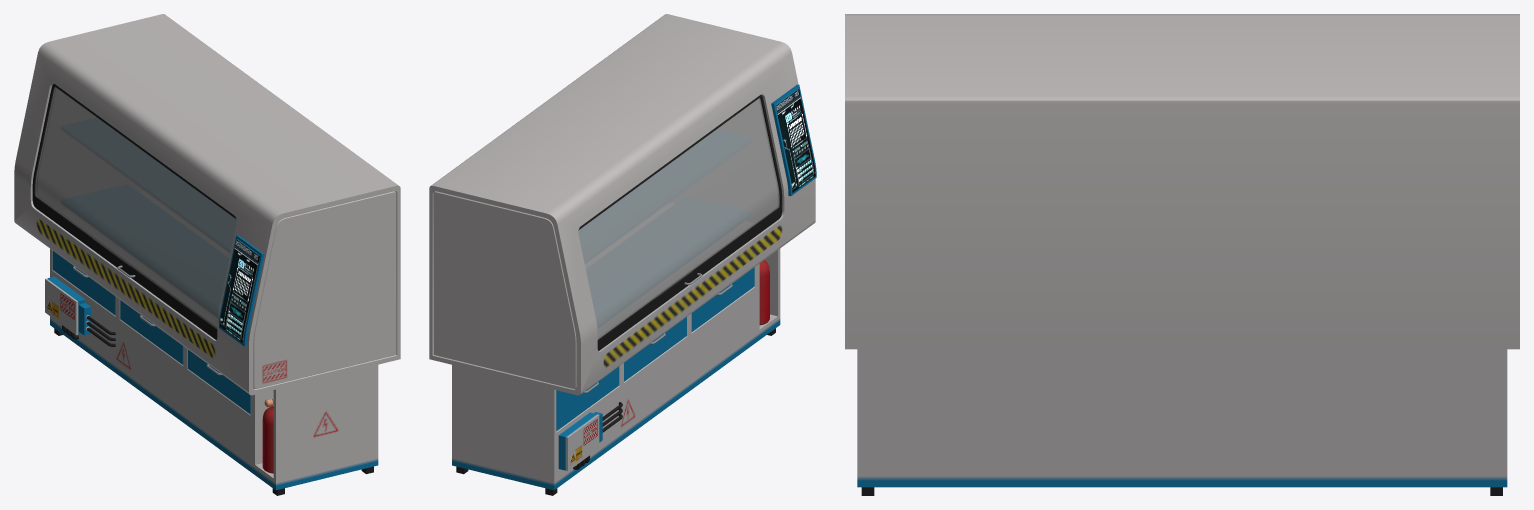
The model's file is PlantChamberGrp.fbx.
The picture shows the model from 3 angles, left to right: view 1: azimuth 30°, elevation 25°; view 2: azimuth 150°, elevation 25°; view 3: azimuth 270°, elevation 25°; orthographic projection. The views are drawn at different scales.
Parts seen in each view (by area): view 1: PlantChamber2, PlantChamberGlass; view 2: PlantChamber2, PlantChamberGlass; view 3: PlantChamber2.
Boxes of the visible parts, bbox=[...] form: PlantChamber2: bbox=[14, 14, 400, 495]; PlantChamberGlass: bbox=[35, 87, 236, 328]; PlantChamber2: bbox=[429, 14, 816, 495]; PlantChamberGlass: bbox=[578, 98, 779, 339]; PlantChamber2: bbox=[845, 14, 1519, 495].
Size of the model in its own units: 111 by 195 by 290.
